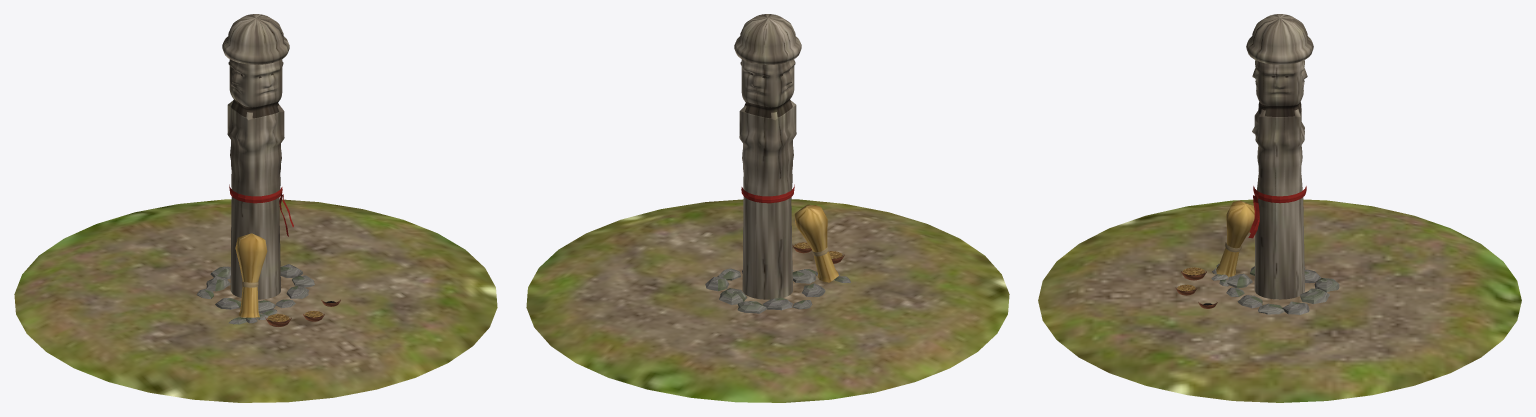
File: idol.glb
3 renders of one model, left to right at view 1: azimuth 30°, elevation 25°; view 2: azimuth 150°, elevation 25°; view 3: azimuth 270°, elevation 25°, orthographic.
Visible parts, largest first — view 1: idol; view 2: idol; view 3: idol.
Part boxes in pixels (bbox=[...]): idol: bbox=[14, 14, 497, 402]; idol: bbox=[526, 14, 1009, 402]; idol: bbox=[1038, 14, 1521, 402].
Size of the model in its own units: 4.5 by 3.02 by 4.5.
1 material, 1 textured.
